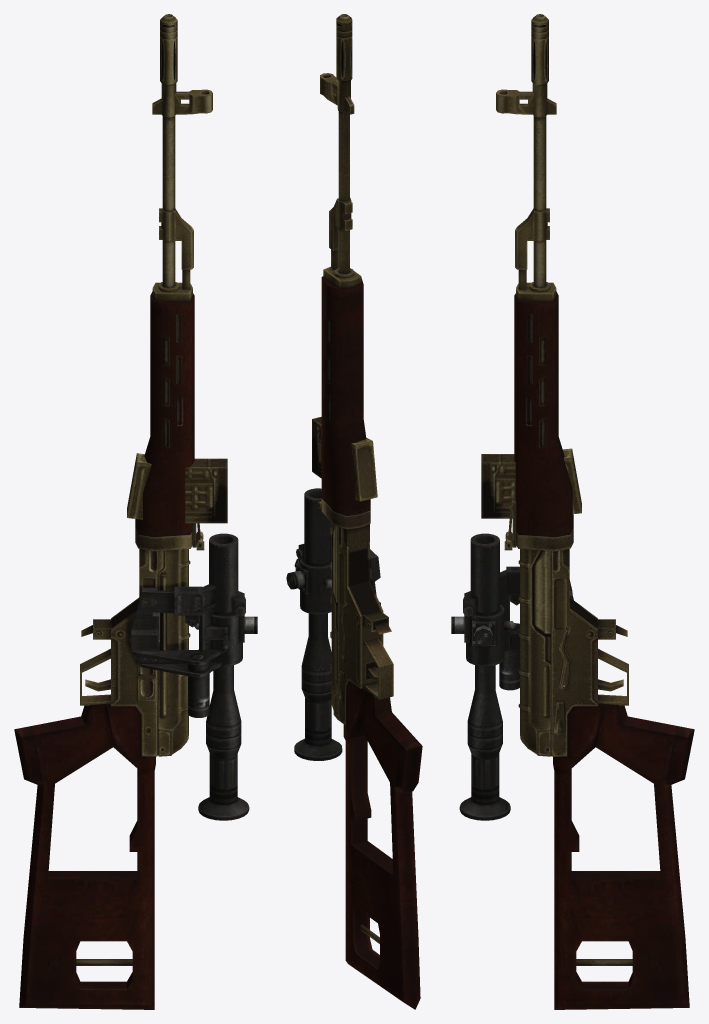
The model's file is SVD-Dragunov_SE.obj.
3 views of the same model, side by side, from view 1: azimuth 90°, elevation 25°; view 2: azimuth 210°, elevation 25°; view 3: azimuth 270°, elevation 25° (orthographic). The views are drawn at different scales.
Parts seen in each view (by area): view 1: Part_2, Part_3, Part_1; view 2: Part_2, Part_3, Part_1; view 3: Part_2, Part_3, Part_1.
Boxes of the visible parts, x1,y1,x2,y2 form: Part_2: (14, 14, 212, 1009); Part_3: (130, 533, 257, 820); Part_1: (127, 453, 227, 523); Part_2: (317, 14, 422, 1009); Part_3: (286, 488, 380, 760); Part_1: (312, 417, 377, 501); Part_2: (496, 14, 694, 1009); Part_3: (451, 533, 573, 820); Part_1: (481, 448, 581, 518).
Bounding box in the file's own units: 0.0851 × 1.17 × 0.2595.
2 materials, 2 textured.
